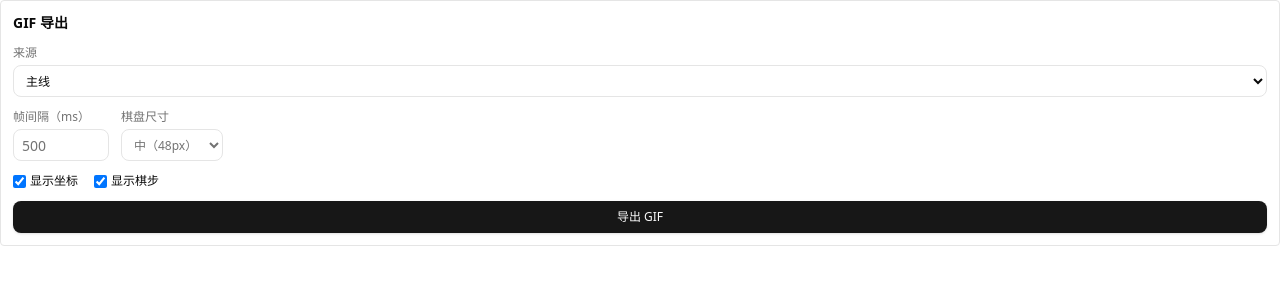
Test: GifExportPanel › shows an error message on failure
This screenshot has width=1280, height=291.
Click the button with test id "gif-export" at (640, 217), box x1=13 y1=201 x2=1267 y2=233
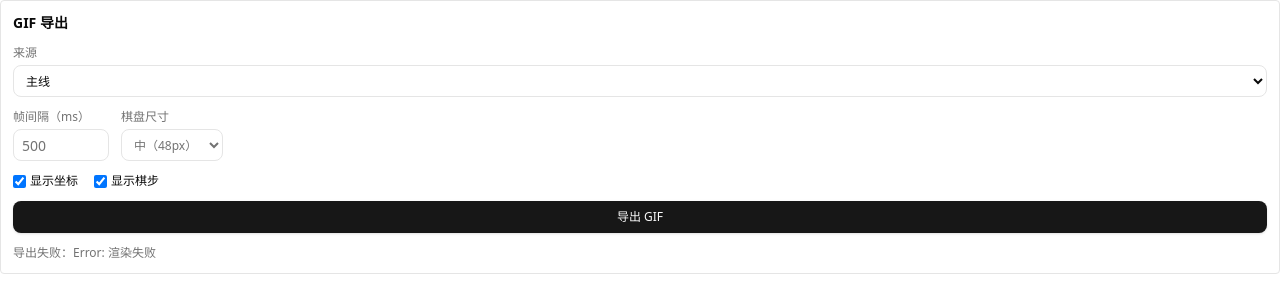
Expected: the text with test id "gif-message" shows "导出失败", x1=13 y1=244 x2=156 y2=261
